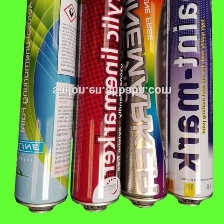aerosol_cans: (10, 0, 80, 216), (67, 0, 124, 214), (115, 0, 170, 210), (161, 0, 216, 209)
